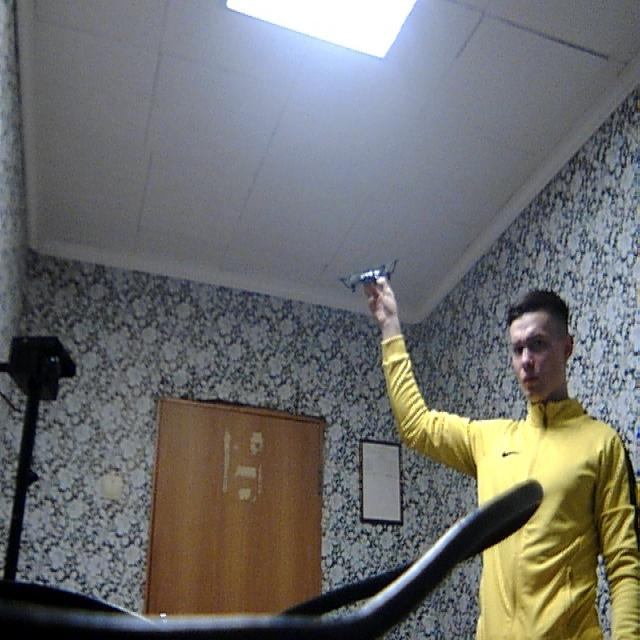drone: (331, 235, 406, 305)
